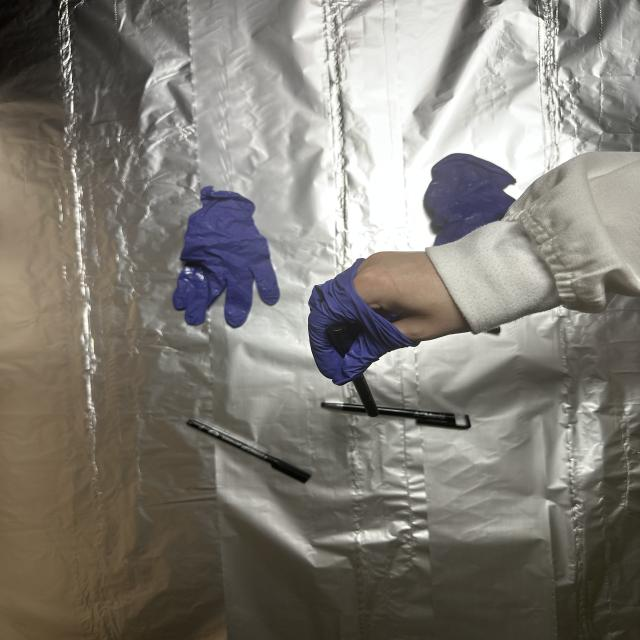glove_partial: (304, 247, 474, 383)
